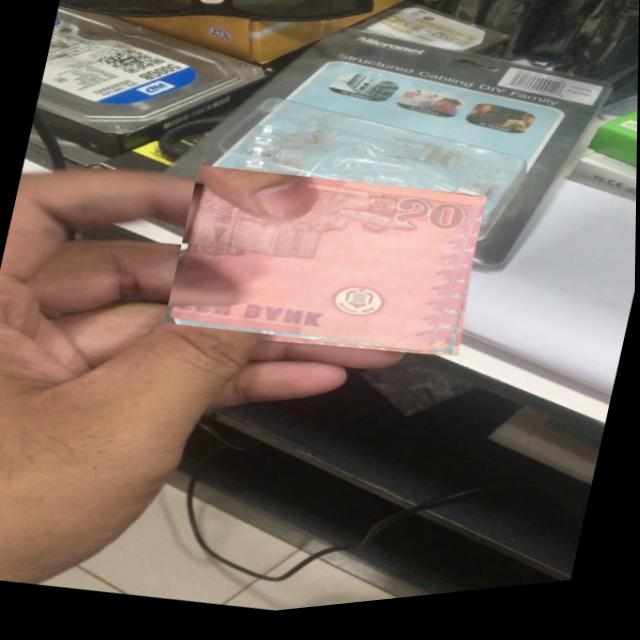Taka: (164, 146, 487, 388)
